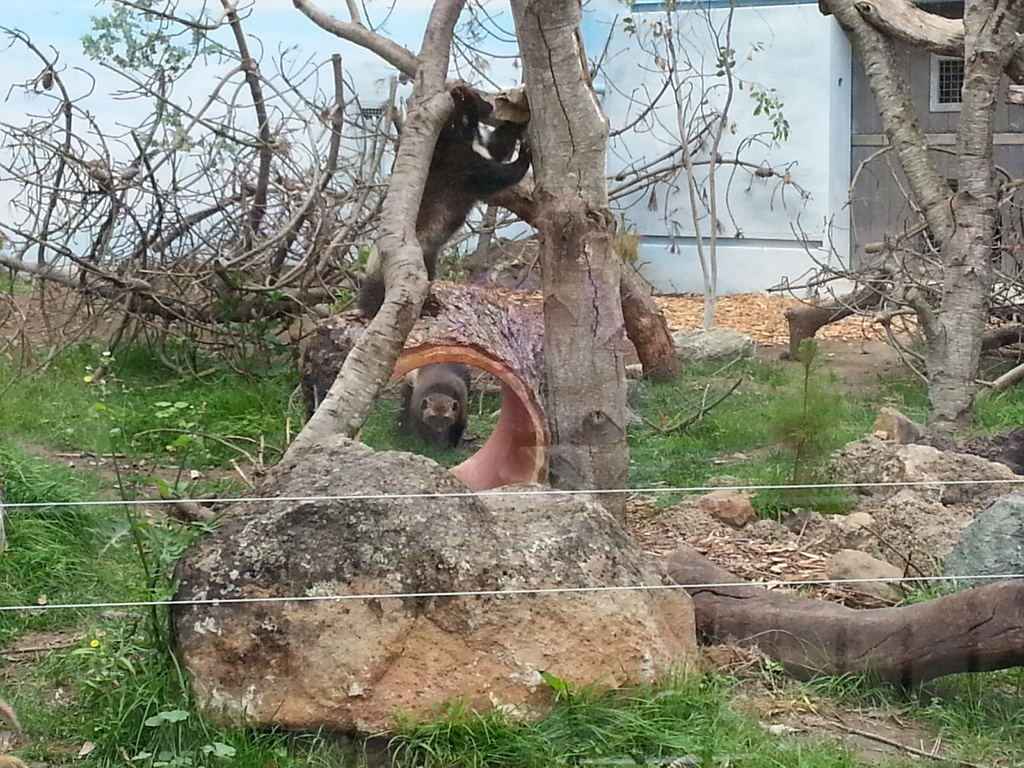Animal: (394, 360, 469, 449)
